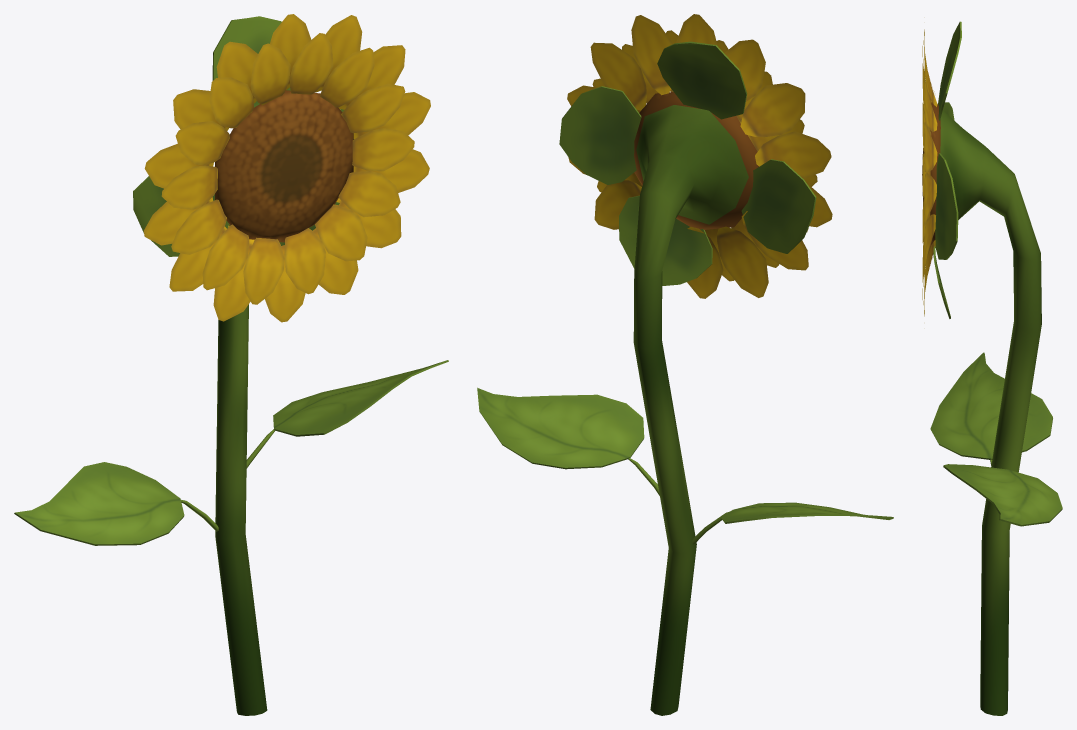
File: Sunflower1 (1).fbx
The picture shows the model from 3 angles, left to right: view 1: azimuth 30°, elevation 25°; view 2: azimuth 150°, elevation 25°; view 3: azimuth 270°, elevation 25°; orthographic projection. The views are drawn at different scales.
Visible parts, largest first — view 1: Sunflower; view 2: Sunflower; view 3: Sunflower.
Part boxes in pixels (<box>): Sunflower: <box>14,14,448,715</box>; Sunflower: <box>477,14,893,715</box>; Sunflower: <box>922,21,1062,715</box>.
Bounding box in the file's own units: 348 × 545 × 102.
